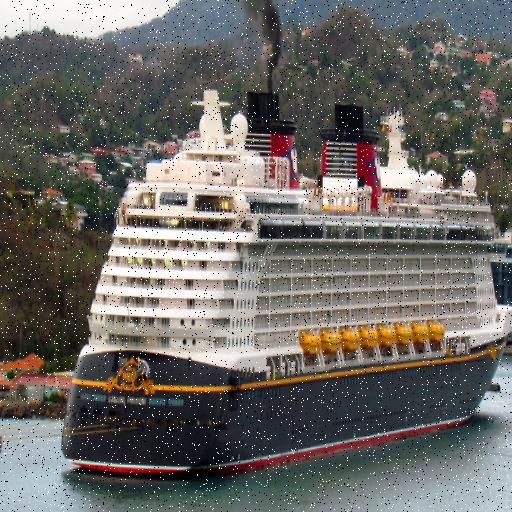cruises: (55, 58, 512, 478)
